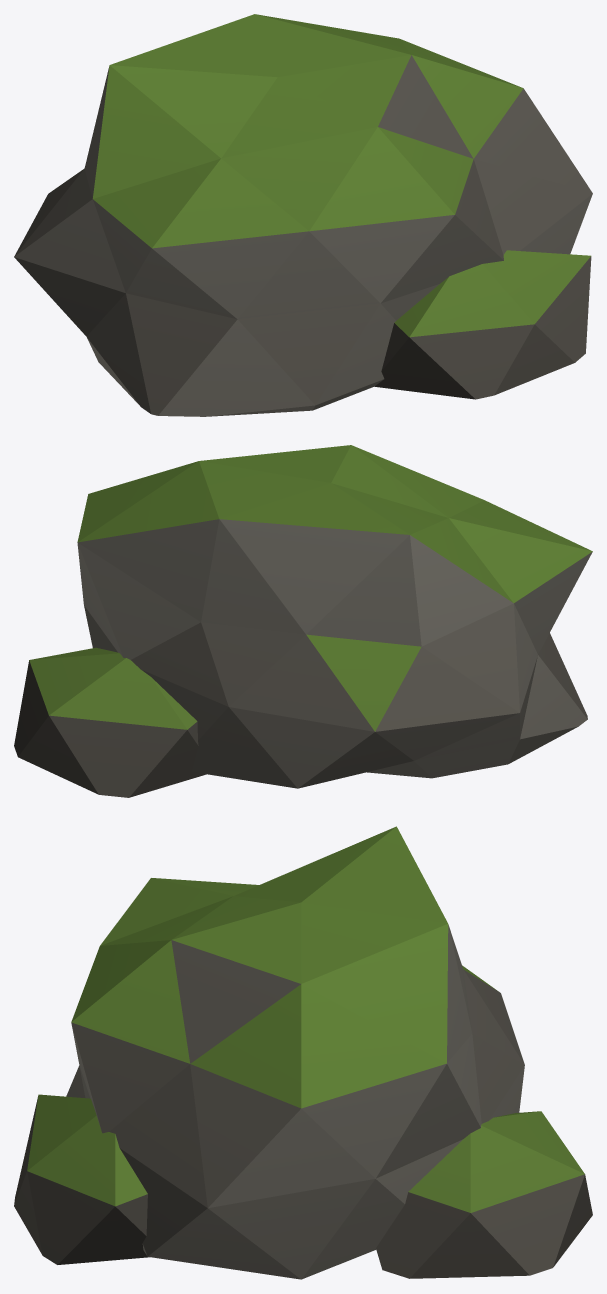
File: e_rock_a.glb
3 views of the same model, one above another, from view 1: azimuth 30°, elevation 25°; view 2: azimuth 150°, elevation 25°; view 3: azimuth 270°, elevation 25° (orthographic). The views are drawn at different scales.
Visible parts, largest first — view 1: e_rock_a; view 2: e_rock_a; view 3: e_rock_a.
Boxes of the visible parts, bbox=[...] form: e_rock_a: bbox=[14, 14, 592, 416]; e_rock_a: bbox=[14, 445, 592, 797]; e_rock_a: bbox=[14, 826, 592, 1279].
Bounding box in the file's own units: 1.04 × 0.5009 × 0.9702.
